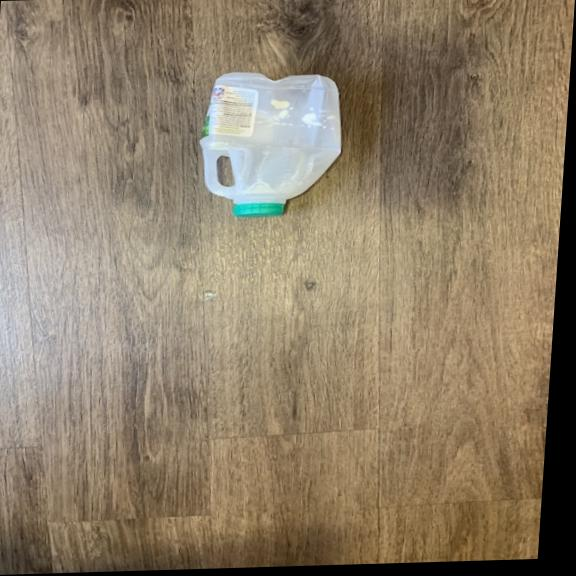Plastik: (190, 57, 353, 219)
